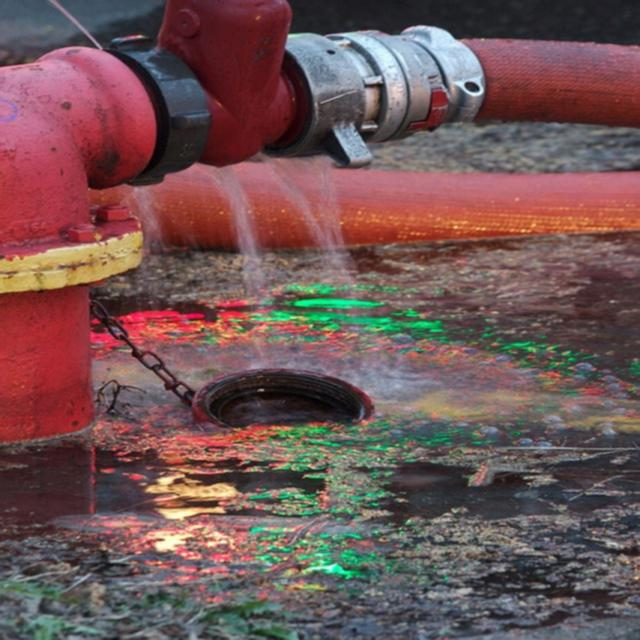fire_hydrant: (0, 0, 638, 525)
